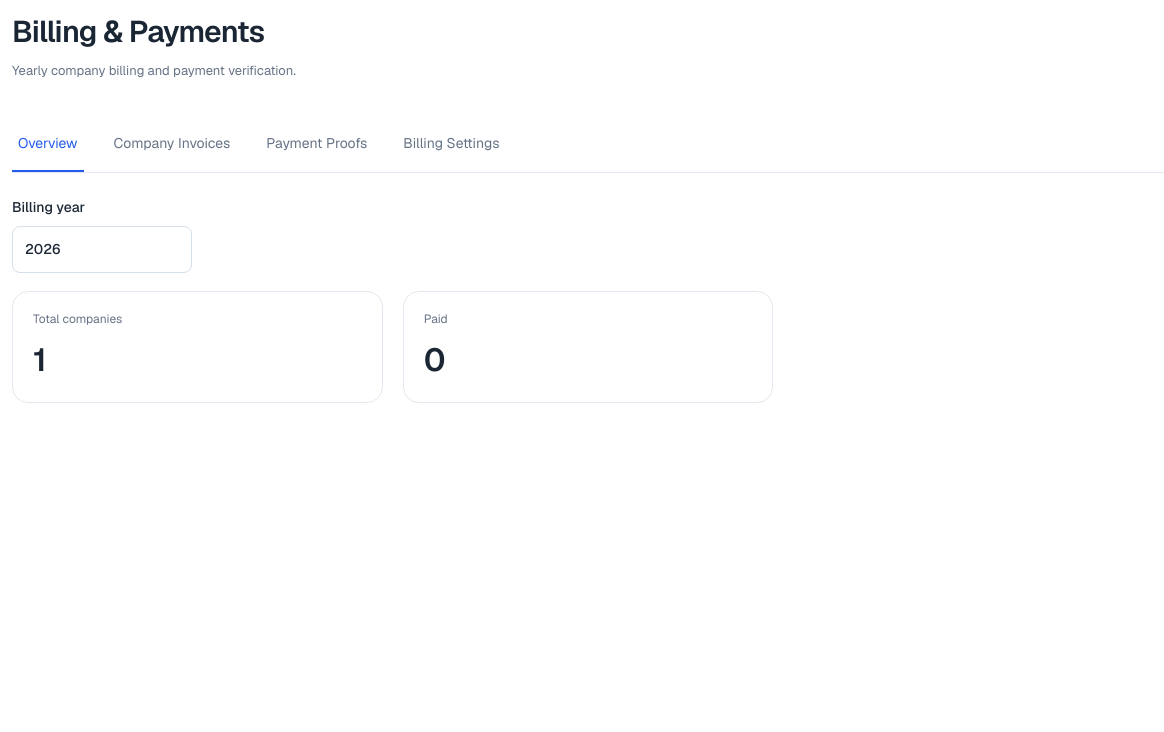
Test case: shows upload server errors
The width and height of the screenshot is (1164, 732).
Expected: the heading "Total companies" is shown, [33, 310, 122, 326]
Click the tab "Payment Proofs".
click(317, 144)  # box [260, 116, 373, 172]
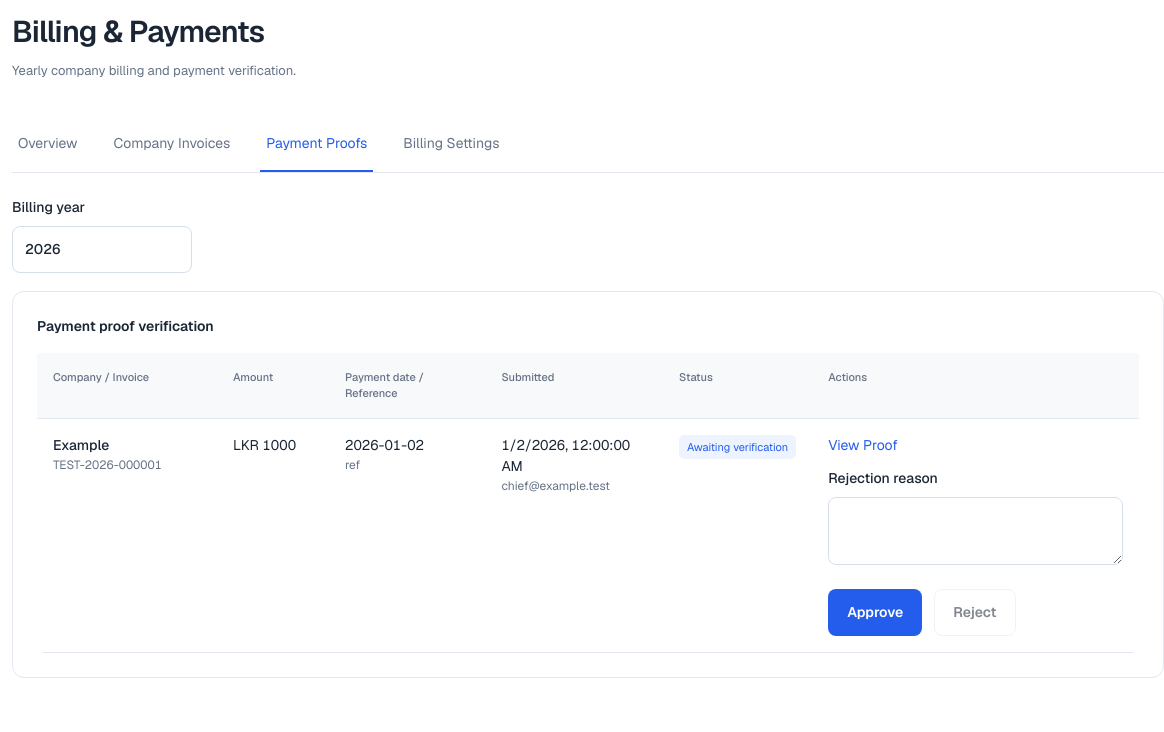
Click the button "Approve".
click(875, 612)  # box [828, 588, 922, 636]
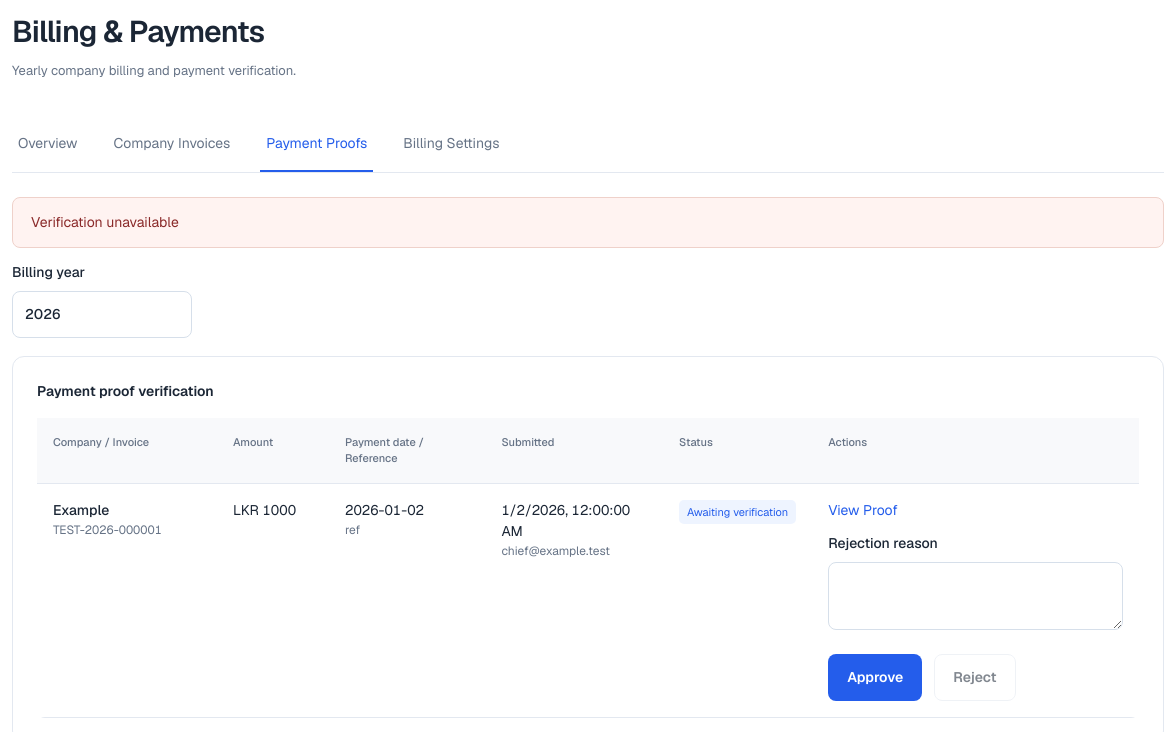
Result: the message reads "Verification unavailable" at [31, 212, 179, 230]
